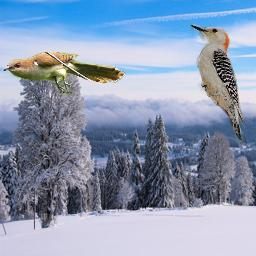Cuckoo: (2, 52, 126, 95)
Woodpecker: (189, 19, 248, 148)
